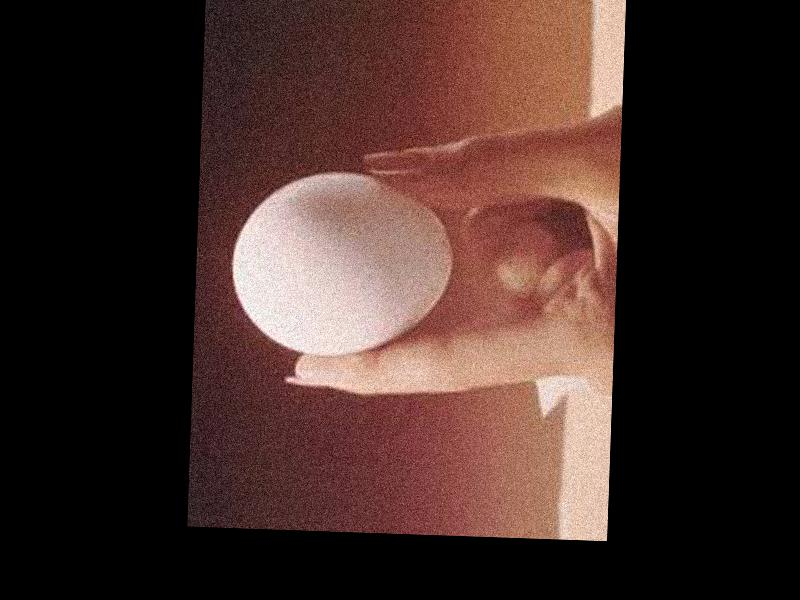Eggs: (230, 165, 458, 360)
